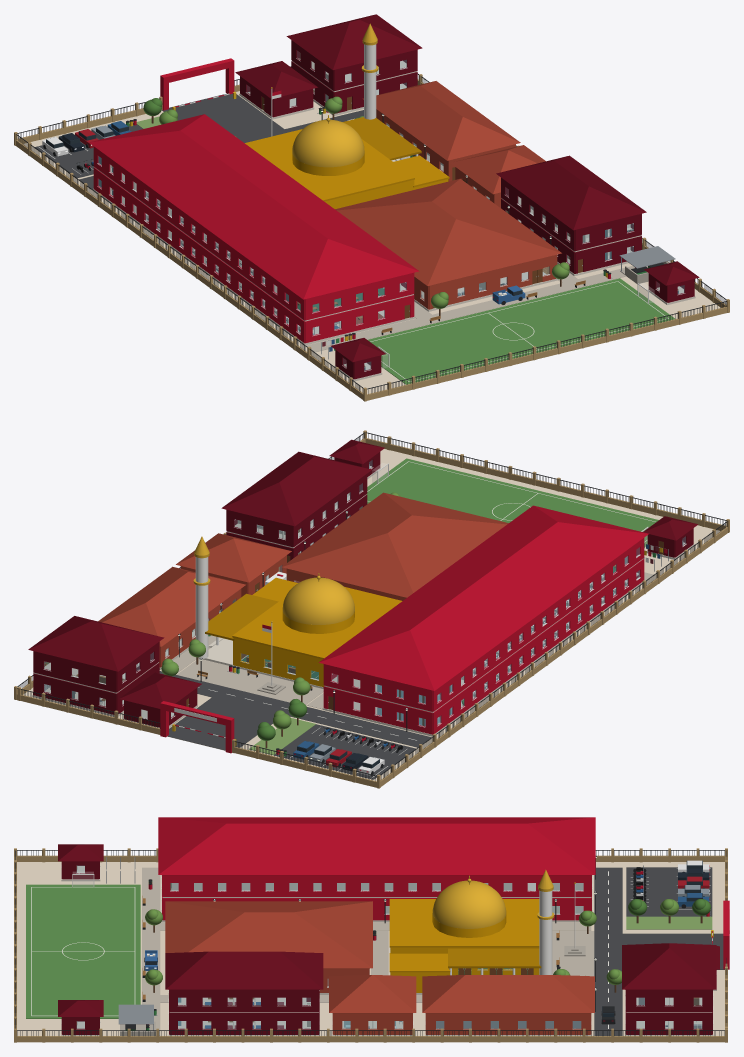
File: pesantren-merah-putih.glb
The picture shows the model from 3 angles, top to bottom: view 1: azimuth 30°, elevation 25°; view 2: azimuth 150°, elevation 25°; view 3: azimuth 270°, elevation 25°; orthographic projection.
Visible parts, largest first — view 1: Asrama Santri Atap, Lapangan Serbaguna, Dapur & Mat'am Atap, Pagar & Gerbang, Lahan & Jalan, Asrama Santri Lt1, Masjid / Mushola Atap, Asrama Santri Lt2, Ruang Serbaguna Atap, Mess Musyrif & Guru Atap, Kantor Administrasi Atap, Dapur & Mat'am Lt1 (+18 smaller); view 2: Asrama Santri Atap, Pagar & Gerbang, Lahan & Jalan, Dapur & Mat'am Atap, Lapangan Serbaguna, Asrama Santri Lt1, Masjid / Mushola Atap, Asrama Santri Lt2, Mess Musyrif & Guru Atap, Ruang Serbaguna Atap, Kantor Administrasi Atap, Parkir & RTH (+18 smaller); view 3: Asrama Santri Atap, Lahan & Jalan, Lapangan Serbaguna, Dapur & Mat'am Atap, Pagar & Gerbang, Asrama Santri Lt2, Masjid / Mushola Atap, Ruang Serbaguna Atap, Mess Musyrif & Guru Atap, Kantor Administrasi Atap, Ruang Serbaguna Lt1, Mess Musyrif & Guru Lt1 (+18 smaller).
Boxes of the visible parts, x1,y1,x2,y2 form: Asrama Santri Atap: (89, 114, 418, 299); Lapangan Serbaguna: (368, 278, 674, 384); Dapur & Mat'am Atap: (335, 178, 561, 285); Pagar & Gerbang: (14, 58, 729, 401); Lahan & Jalan: (24, 91, 720, 394); Asrama Santri Lt1: (93, 167, 415, 345); Masjid / Mushola Atap: (245, 115, 414, 201); Asrama Santri Lt2: (93, 146, 414, 321); Ruang Serbaguna Atap: (362, 81, 520, 160); Mess Musyrif & Guru Atap: (496, 155, 646, 230); Kantor Administrasi Atap: (286, 14, 422, 69); Dapur & Mat'am Lt1: (414, 254, 557, 311); Asrama Santri Atap: (319, 505, 648, 690); Pagar & Gerbang: (14, 430, 729, 788); Lahan & Jalan: (23, 449, 719, 781); Dapur & Mat'am Atap: (281, 492, 508, 597); Lapangan Serbaguna: (367, 458, 658, 547); Asrama Santri Lt1: (322, 559, 644, 736); Masjid / Mushola Atap: (232, 573, 402, 659); Asrama Santri Lt2: (323, 538, 644, 712); Mess Musyrif & Guru Atap: (221, 451, 371, 526); Ruang Serbaguna Atap: (98, 566, 245, 646); Kantor Administrasi Atap: (28, 616, 164, 671); Parkir & RTH: (249, 718, 415, 779); Asrama Santri Atap: (158, 817, 595, 875); Lahan & Jalan: (17, 862, 724, 1035); Lapangan Serbaguna: (26, 872, 140, 1018); Dapur & Mat'am Atap: (165, 901, 372, 968); Pagar & Gerbang: (14, 848, 729, 1042); Asrama Santri Lt2: (161, 875, 592, 897); Masjid / Mushola Atap: (389, 875, 539, 947); Ruang Serbaguna Atap: (422, 975, 594, 1013); Mess Musyrif & Guru Atap: (165, 951, 323, 989); Kantor Administrasi Atap: (622, 943, 716, 989); Ruang Serbaguna Lt1: (425, 1013, 591, 1035); Mess Musyrif & Guru Lt1: (168, 997, 319, 1035).
Bounding box in the file's own units: 60.4 × 19.35 × 101.
